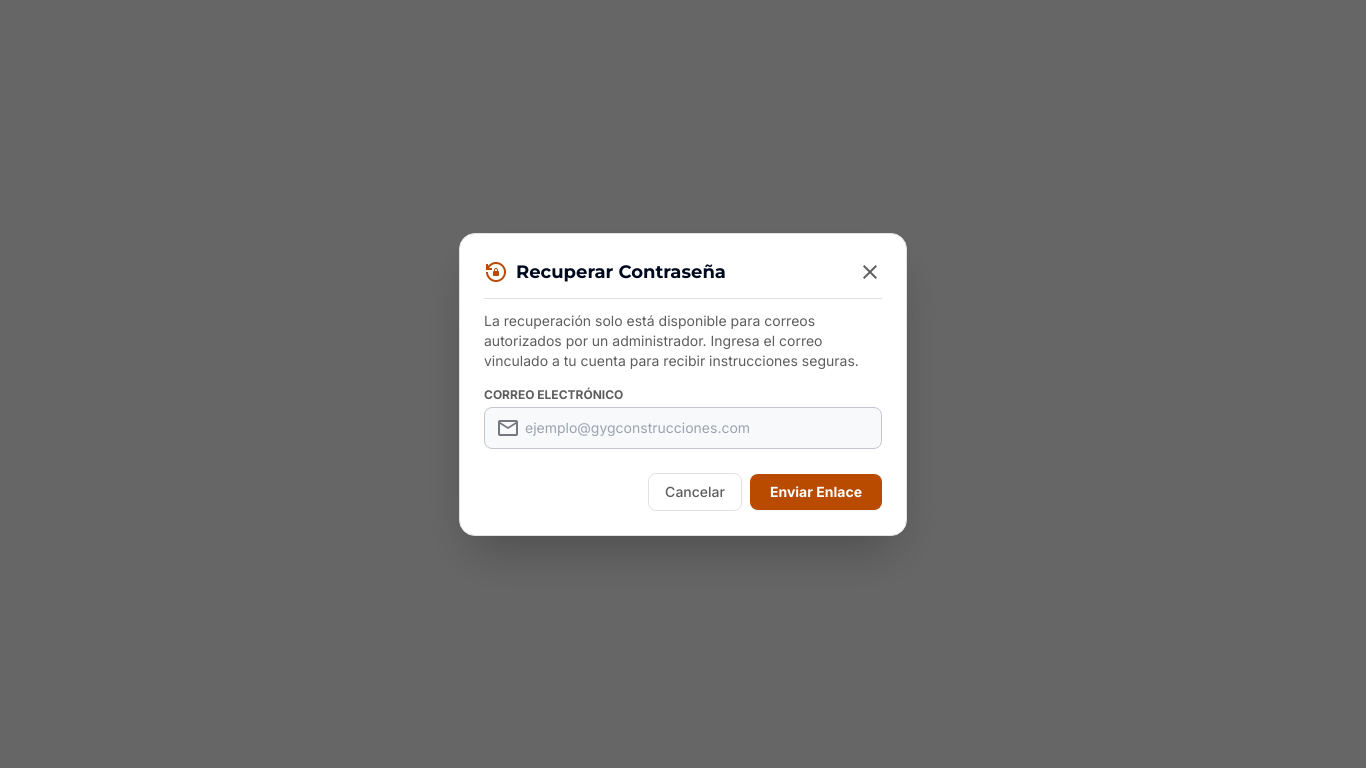
Scenario: ForgotPasswordModal › sends password recovery without rendering or requiring CAPTCHA
Type "admin@example.com" into the field labelled "Correo Electrónico" at [683, 428], box [484,406,882,448]
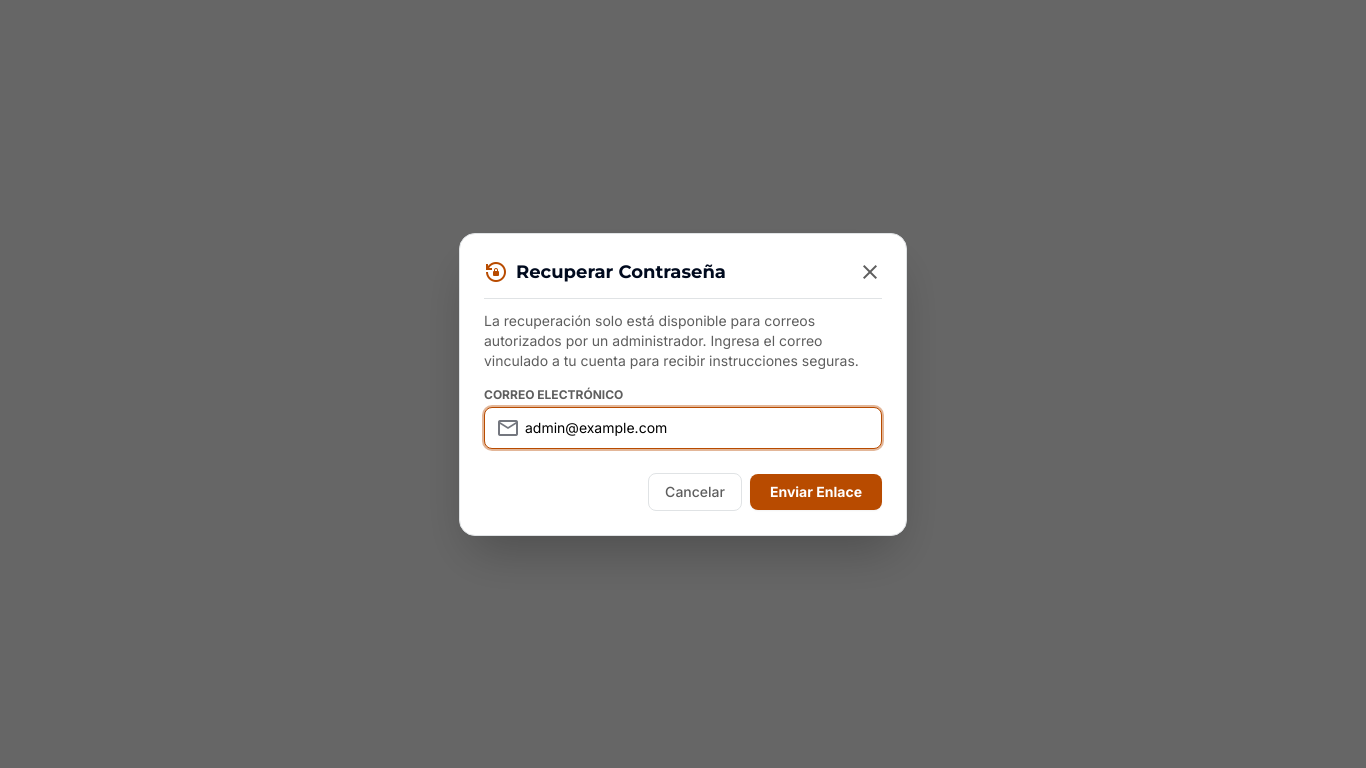
Click the button "Enviar Enlace" at [816, 492], box [750,474,882,510]
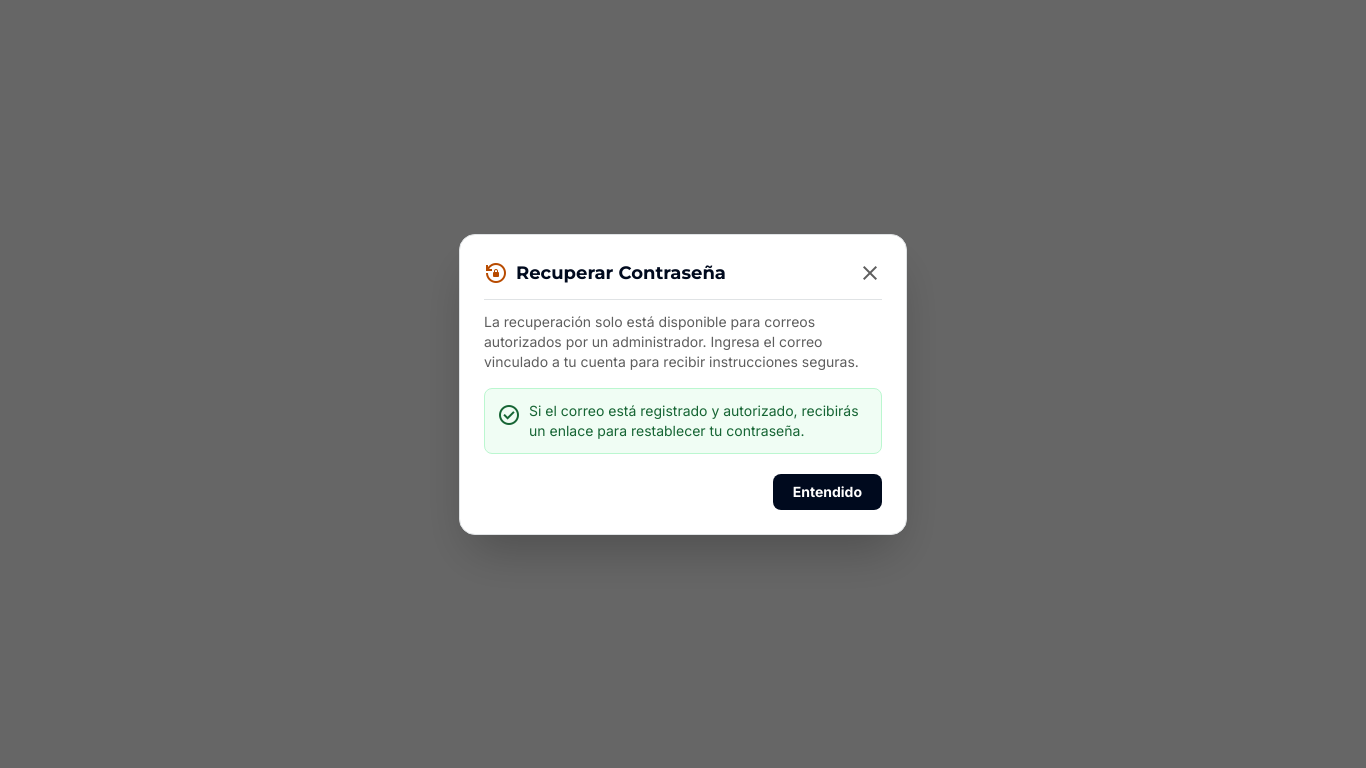
Expected: the text "recibirás un enlace para restablecer tu contraseña" is shown, [529,402,859,438]
